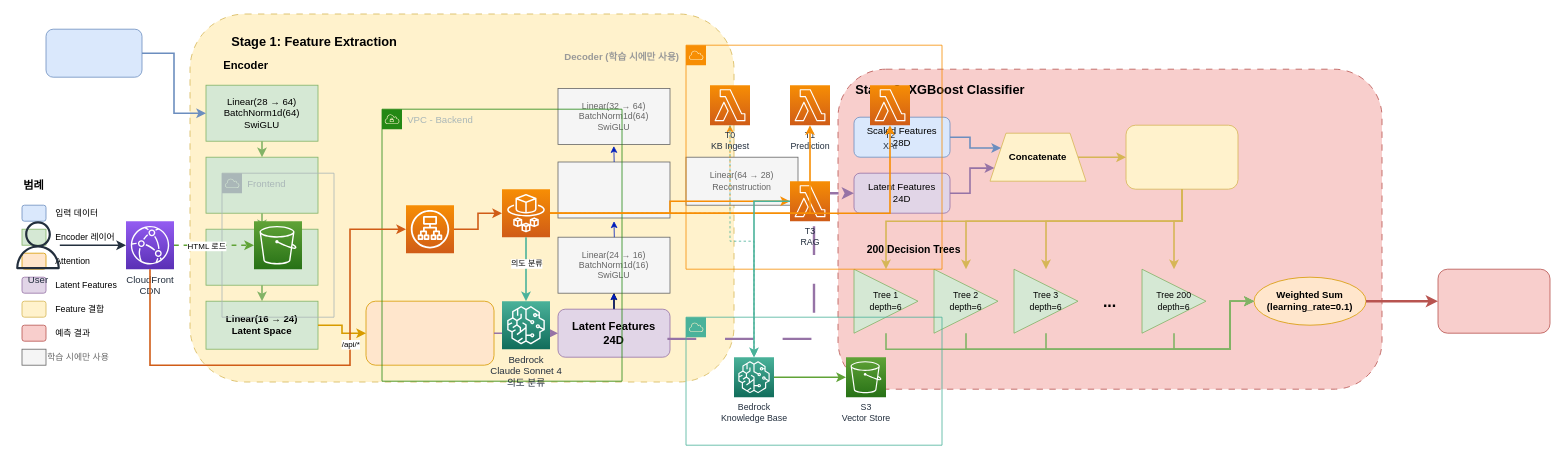
The diagram is 1564 pixels wide and 459 high, and some of its shapes have lost their labels. Here are the shapes that lost their labels. From the top down, the box of each, then its label:
(45, 28, 142, 77): 입력 데이터 28D Features
(685, 44, 942, 269): Lambda Functions
(1125, 124, 1238, 189): Combined Features 52D (28D + 24D)
(205, 156, 318, 213): Linear(64 → 32) BatchNorm1d(32) SwiGLU
(557, 161, 670, 218): Linear(16 → 32) BatchNorm1d(32) SwiGLU
(405, 204, 454, 253): ALB /api/*
(501, 188, 550, 237): ECS Fargate Backend Agent (FastAPI)
(205, 228, 318, 285): Linear(32 → 16) BatchNorm1d(16) SwiGLU
(253, 220, 302, 269): S3 chat.html
(1437, 268, 1550, 333): 예측 결과 P(defect) P(normal)
(365, 300, 494, 365): Attention Module 4-head Self-Attention LayerNorm
(685, 316, 942, 445): AI/ML Services
